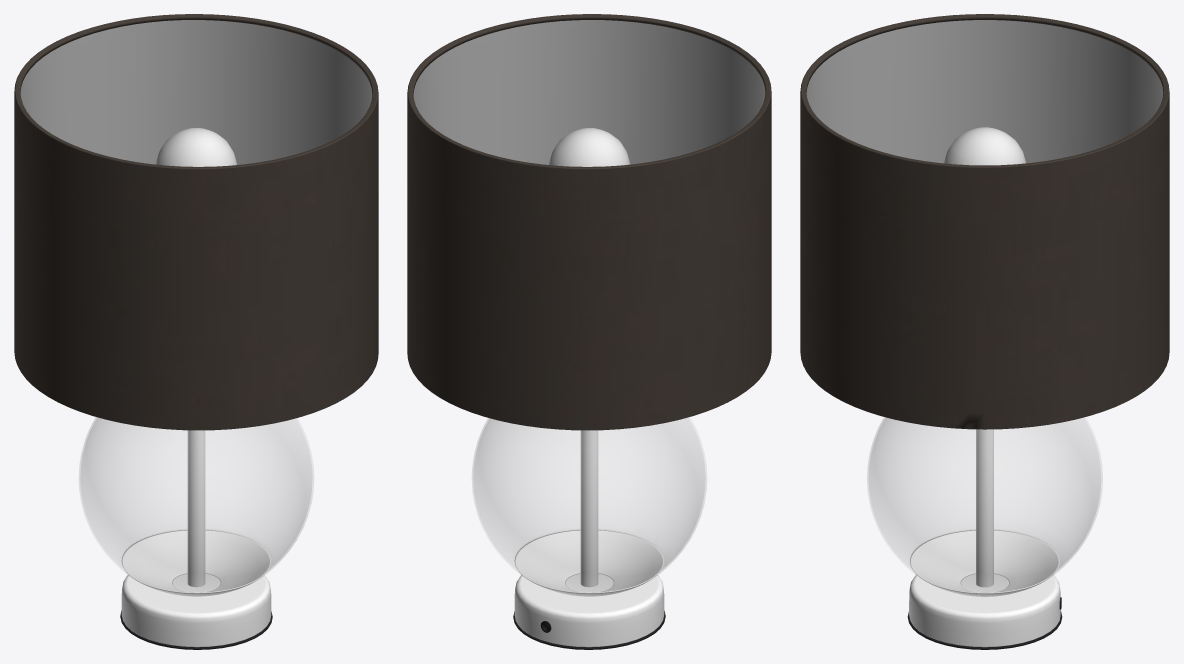
File: iridescencelamp.glb
3 renders of one model, left to right at view 1: azimuth 30°, elevation 25°; view 2: azimuth 150°, elevation 25°; view 3: azimuth 270°, elevation 25°, orthographic.
Visible parts, largest first — view 1: lamp, lamp_iridescence, lamp_transmission; view 2: lamp, lamp_iridescence, lamp_transmission; view 3: lamp, lamp_iridescence, lamp_transmission.
Boxes of the visible parts, x1=… form: lamp: x1=14, y1=14, x2=378, y2=649; lamp_iridescence: x1=20, y1=20, x2=372, y2=164; lamp_transmission: x1=79, y1=417, x2=313, y2=592; lamp: x1=407, y1=14, x2=771, y2=649; lamp_iridescence: x1=413, y1=20, x2=765, y2=164; lamp_transmission: x1=472, y1=417, x2=706, y2=592; lamp: x1=800, y1=14, x2=1169, y2=649; lamp_iridescence: x1=806, y1=20, x2=1163, y2=163; lamp_transmission: x1=867, y1=417, x2=1102, y2=592.
Bounding box in the file's own units: 0.2973 × 0.4761 × 0.3018.
Materials: 3 (3 with a texture image).
